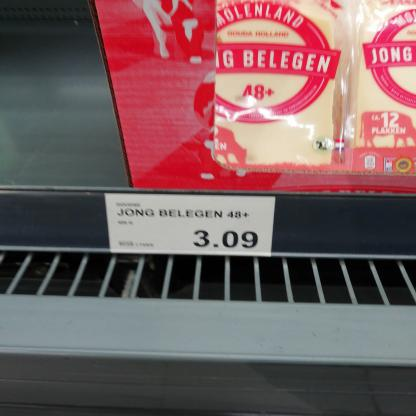prtg: (105, 193, 277, 258)
